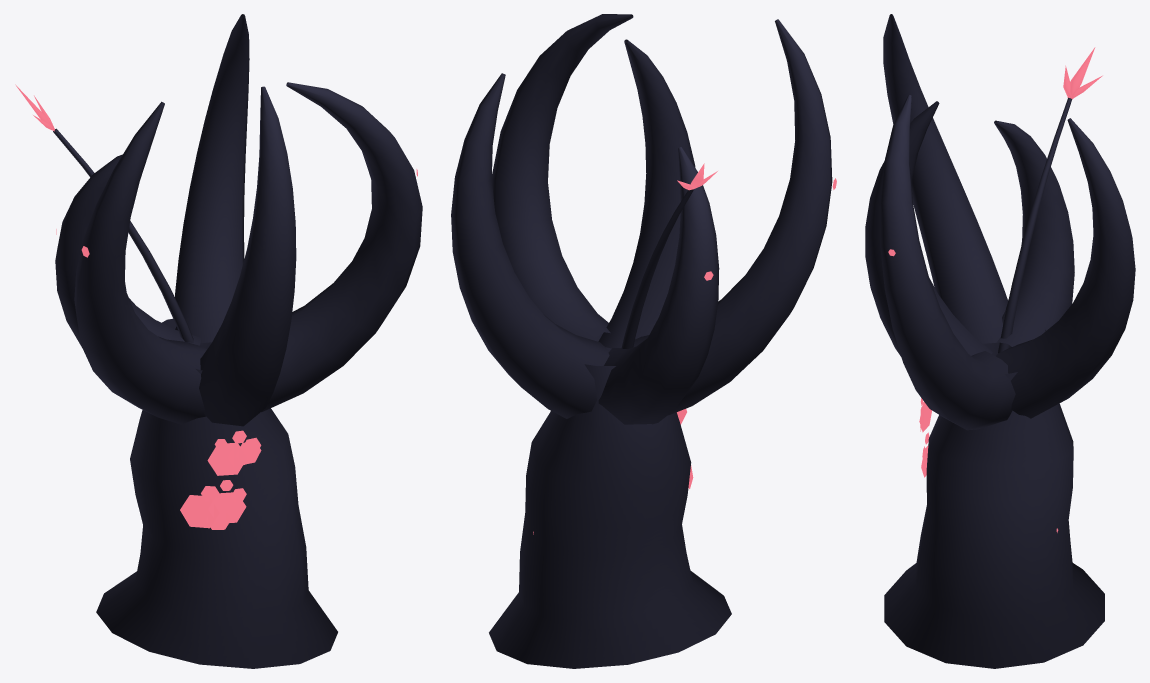
The model's file is tree.glb.
3 renders of one model, left to right at view 1: azimuth 30°, elevation 25°; view 2: azimuth 150°, elevation 25°; view 3: azimuth 270°, elevation 25°, orthographic. The views are drawn at different scales.
Visible parts, largest first — view 1: trunk, spots; view 2: trunk; view 3: trunk, claws, spots.
Part boxes in pixels (x1,y1,x2,y2): trunk: [53, 14, 422, 668]; spots: [56, 169, 417, 529]; trunk: [451, 14, 832, 668]; trunk: [865, 14, 1135, 668]; claws: [1063, 47, 1102, 98]; spots: [888, 249, 1058, 532].
Size of the model in its own units: 5.53 by 9.51 by 4.18.
